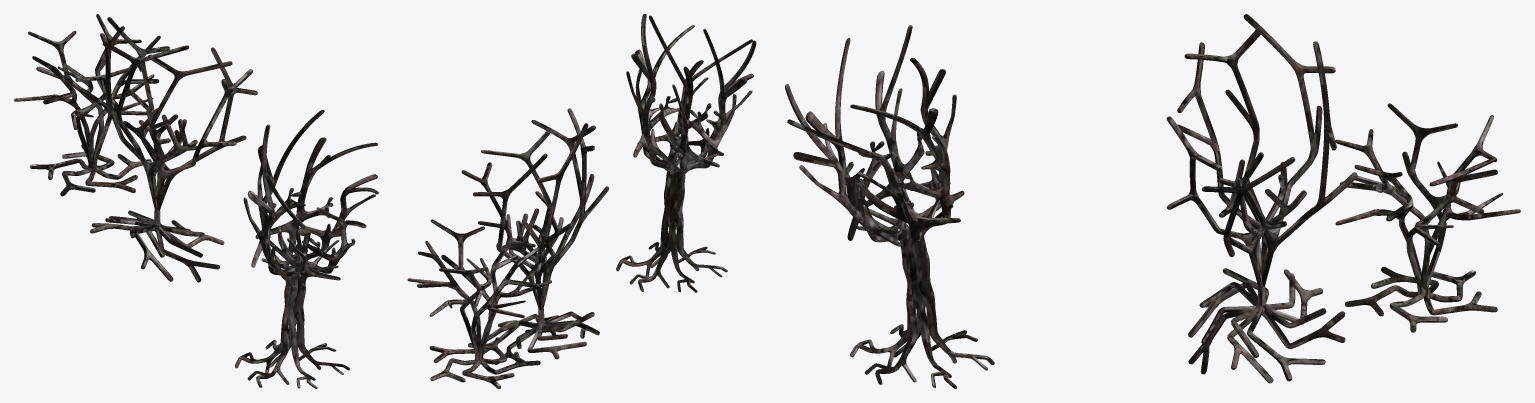
Rendered from Assests.fbx.
3 renders of one model, left to right at view 1: azimuth 30°, elevation 25°; view 2: azimuth 150°, elevation 25°; view 3: azimuth 270°, elevation 25°, orthographic. The views are drawn at different scales.
Visible parts, largest first — view 1: Plane, Plane.001, Plane.002; view 2: Plane, Plane.001, Plane.002; view 3: Plane.001, Plane, Plane.002.
Boxes of the visible parts, x1,y1,x2,y2 form: Plane: (235, 110, 378, 388); Plane.001: (79, 17, 257, 282); Plane.002: (14, 14, 160, 196); Plane: (616, 14, 756, 292); Plane.001: (461, 108, 609, 364); Plane.002: (407, 214, 551, 388); Plane.001: (1166, 14, 1357, 383); Plane: (785, 25, 994, 388); Plane.002: (1335, 103, 1520, 332).
Bounding box in the file's own units: 160 × 284 × 573.
